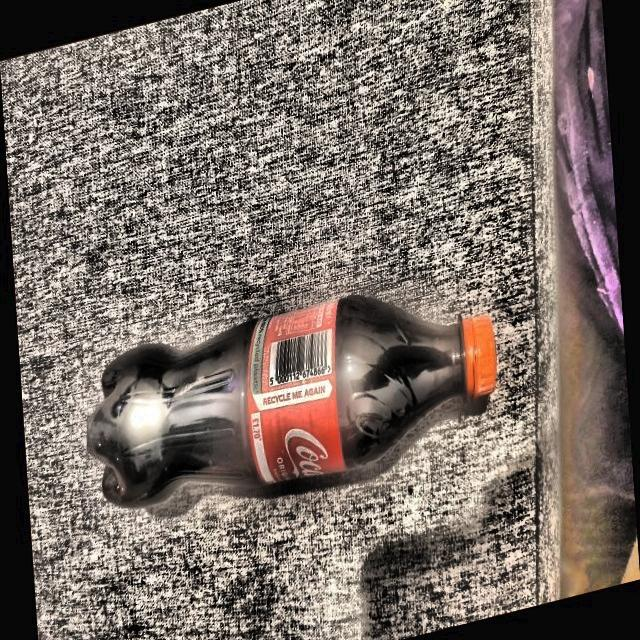coke-bottle: (90, 305, 497, 492)
